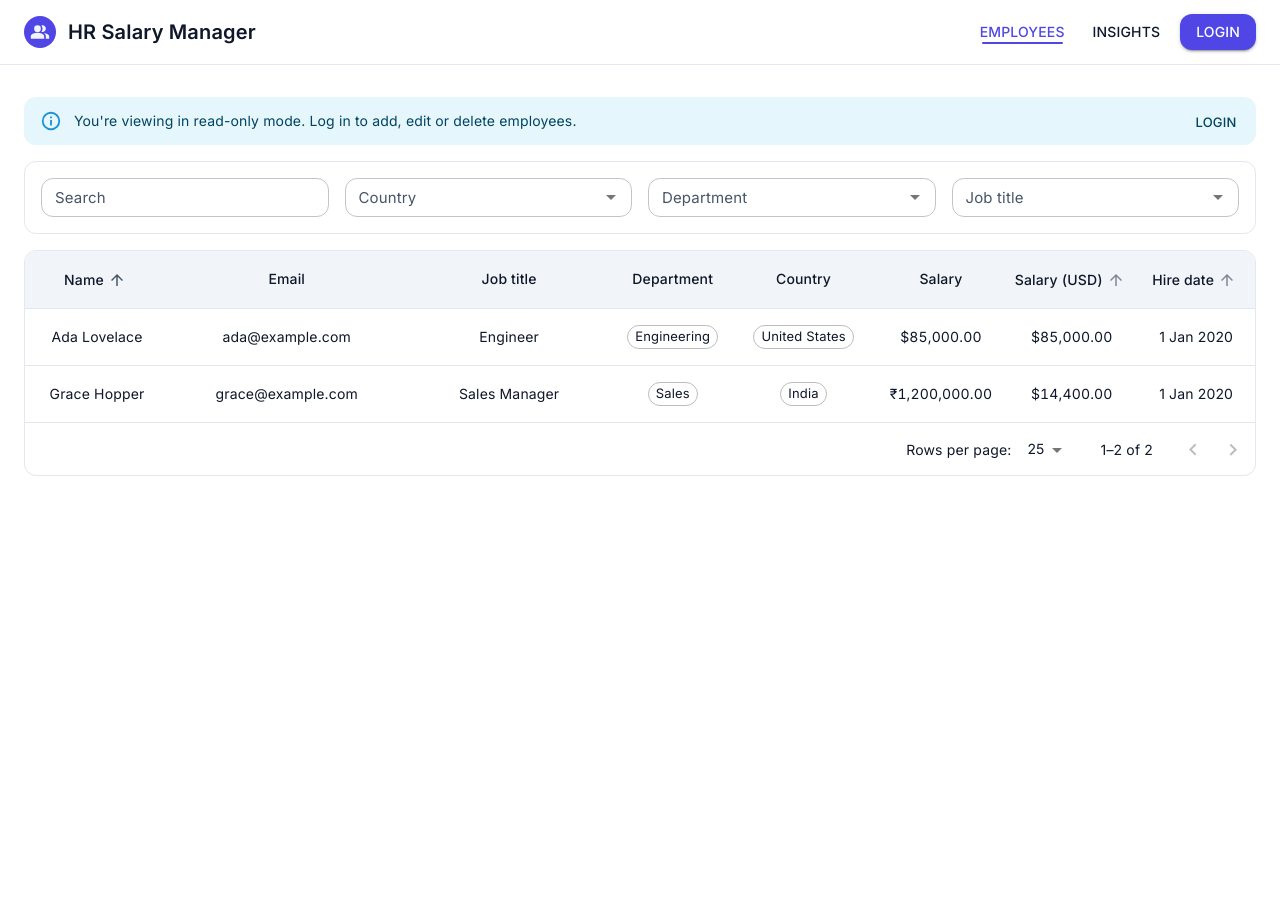
Test case: App routing › navigates to the Insights route via the nav link
Check: the field labelled "Search" is shown, box [41,178,328,217]
Step 1. Click the link "Insights" → x=1126, y=31, box [1093,23,1160,40]
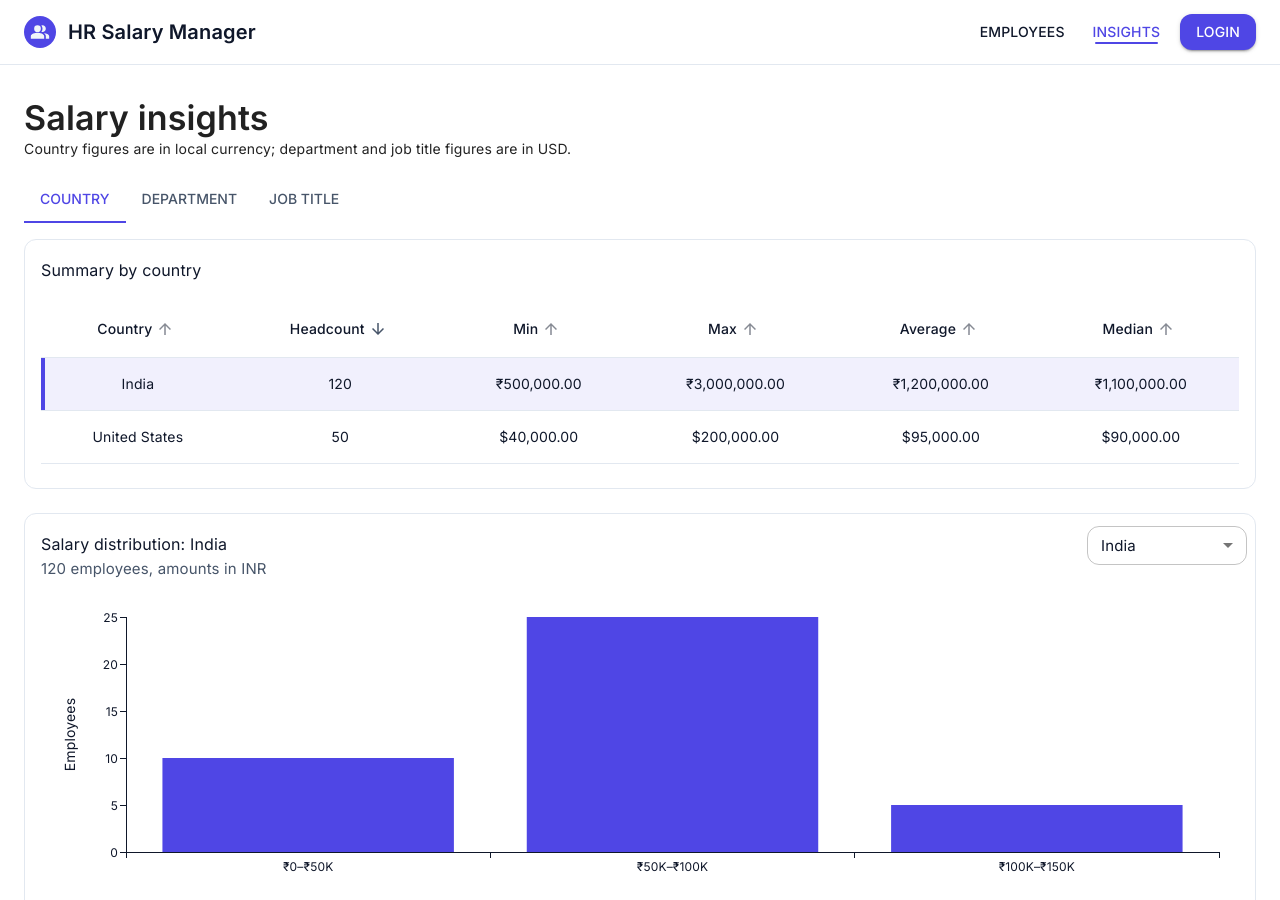
Check: the label "Search" is gone
